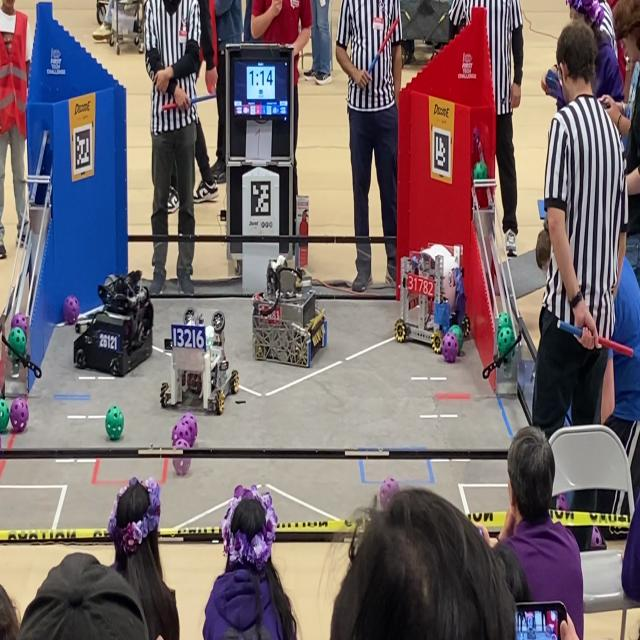artifact_green: (106, 406, 124, 440), (7, 327, 26, 359), (497, 327, 515, 356), (450, 325, 463, 354), (0, 399, 9, 433), (473, 161, 488, 180), (498, 312, 513, 331), (473, 163, 481, 180), (481, 161, 488, 179)
artifact_purple: (10, 398, 28, 433), (379, 478, 399, 509), (181, 413, 197, 446), (442, 332, 458, 363), (172, 421, 190, 446), (63, 296, 79, 324), (181, 419, 196, 446), (173, 456, 191, 476), (11, 313, 27, 333), (591, 527, 604, 549), (556, 493, 570, 511), (473, 130, 480, 154), (0, 438, 1, 449)
